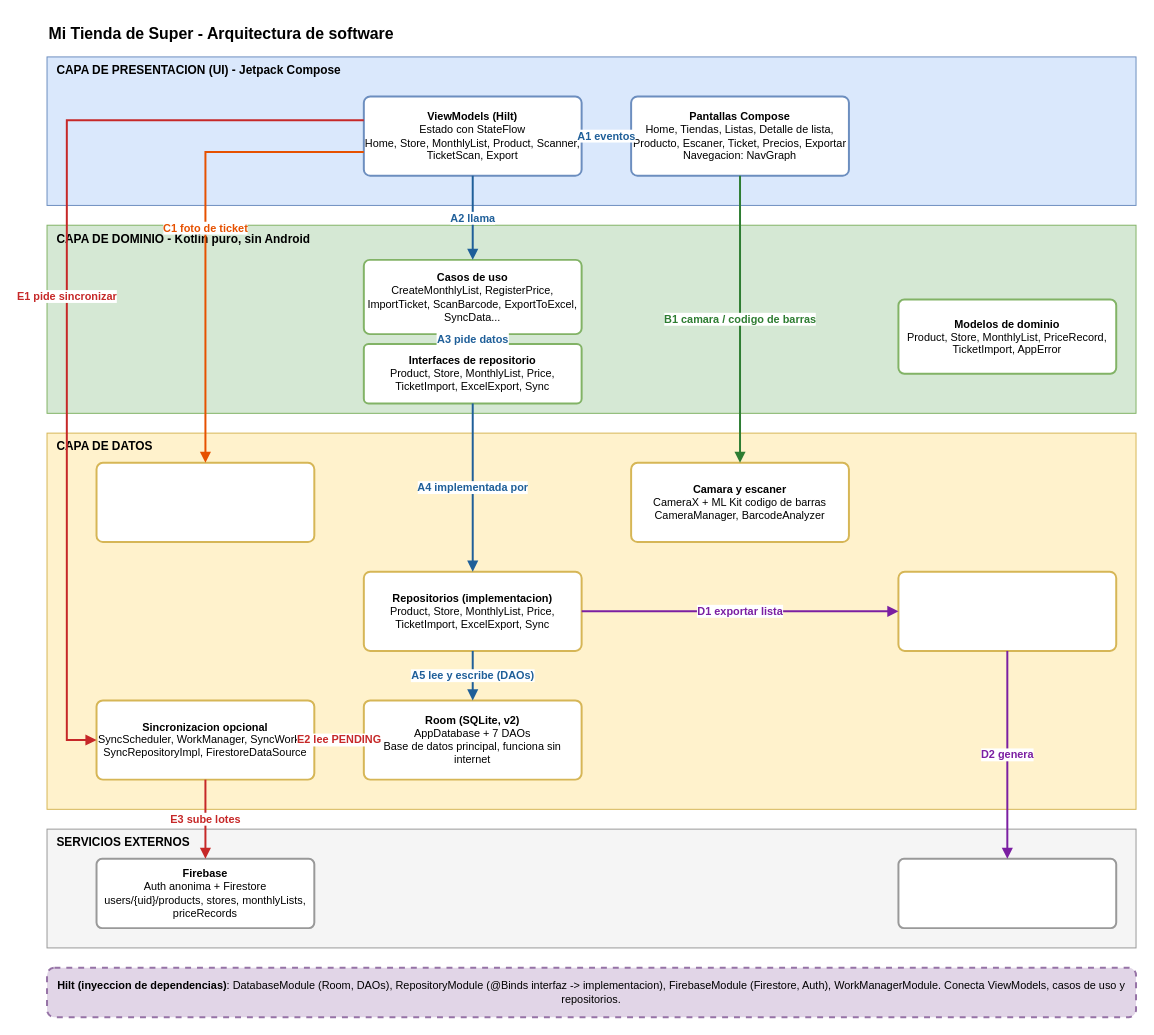
The diagram is 1154 pixels wide and 1035 high, and some of its shapes have lost their labels. The shapes that lost their labels are listed below. From the top down, each one's centre as x and y in pixels, then its label:
[205,502]: OCR de tickets ML Kit texto (latino, en el telefono) TicketTextRecognizer
[1007,610]: Exportacion Excel ExcelExporter con poi-android (.xlsx)
[1007,893]: Archivo .xlsx Se comparte desde cache/exports
